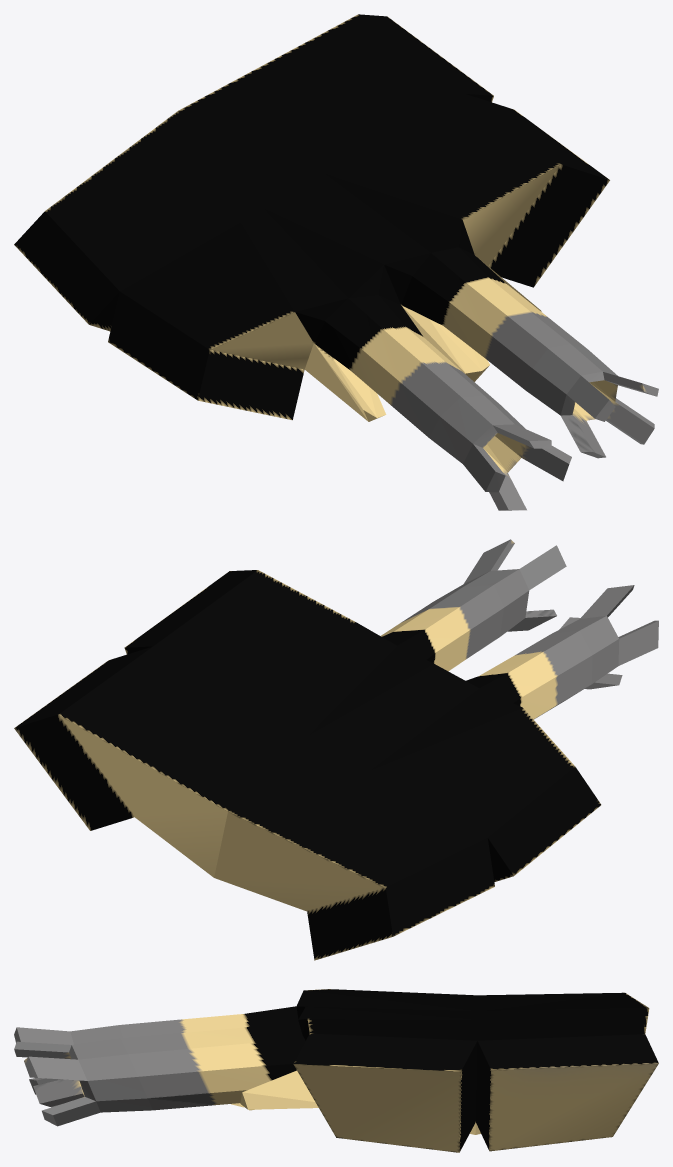
File: weapon 7.FBX
3 renders of one model, top to bottom at view 1: azimuth 30°, elevation 25°; view 2: azimuth 150°, elevation 25°; view 3: azimuth 270°, elevation 25°, orthographic. The views are drawn at different scales.
Visible parts, largest first — view 1: Box001; view 2: Box001; view 3: Box001.
Boxes of the visible parts, bbox=[...] form: Box001: bbox=[14, 14, 658, 510]; Box001: bbox=[14, 539, 658, 960]; Box001: bbox=[14, 989, 658, 1152].
Bounding box in the file's own units: 31.44 × 16.46 × 52.89.
Materials: 1 (1 with a texture image).
